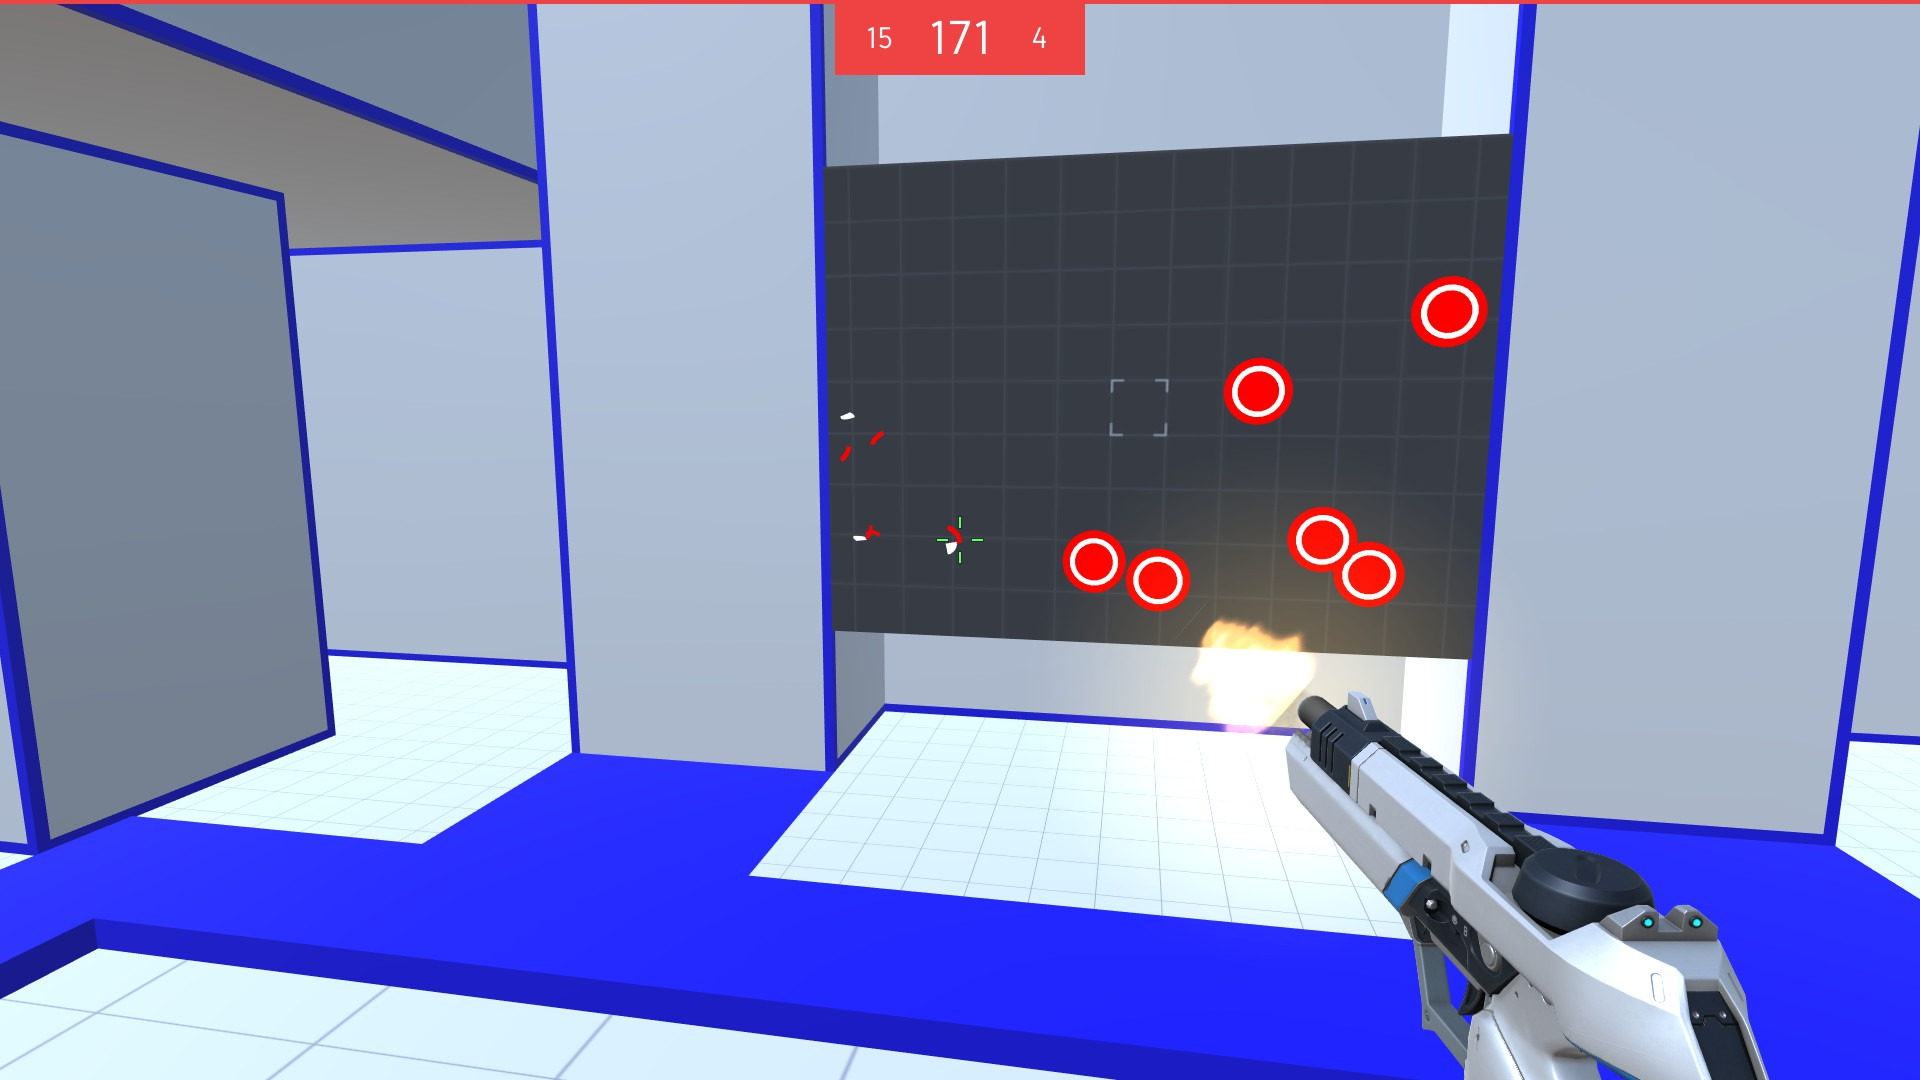target: (1406, 272, 1491, 352), (1284, 501, 1360, 583), (1222, 353, 1299, 429), (1333, 541, 1404, 611), (1125, 547, 1191, 613), (1062, 527, 1129, 592)
